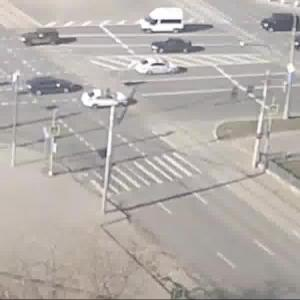car: (143, 6, 188, 37), (20, 24, 61, 49), (259, 9, 300, 34), (20, 73, 71, 92), (131, 60, 180, 79), (81, 90, 133, 106), (154, 42, 196, 58)
